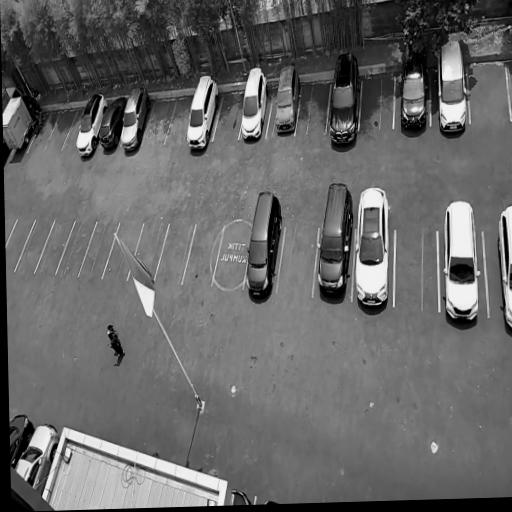Car: (351, 173, 396, 336), (313, 169, 360, 311), (439, 190, 484, 330), (242, 184, 285, 303), (327, 41, 364, 151), (14, 415, 64, 496), (434, 33, 469, 143), (395, 32, 432, 136), (181, 73, 223, 157), (238, 62, 274, 143), (492, 197, 512, 339), (2, 90, 45, 154), (117, 84, 155, 153), (72, 91, 111, 157), (270, 64, 303, 135), (95, 91, 129, 153), (9, 409, 39, 468), (230, 481, 255, 506)
Space Available: (394, 231, 438, 310), (466, 59, 511, 122), (277, 226, 318, 294), (154, 223, 196, 284), (182, 225, 222, 286), (213, 227, 251, 290), (102, 224, 143, 282), (127, 223, 169, 279), (79, 221, 119, 278), (14, 218, 55, 273), (56, 220, 96, 276), (359, 71, 395, 132), (35, 220, 75, 274), (296, 80, 331, 134), (142, 97, 177, 144), (6, 218, 35, 272), (214, 91, 244, 142), (44, 107, 78, 151), (165, 94, 194, 145), (61, 107, 85, 151)
